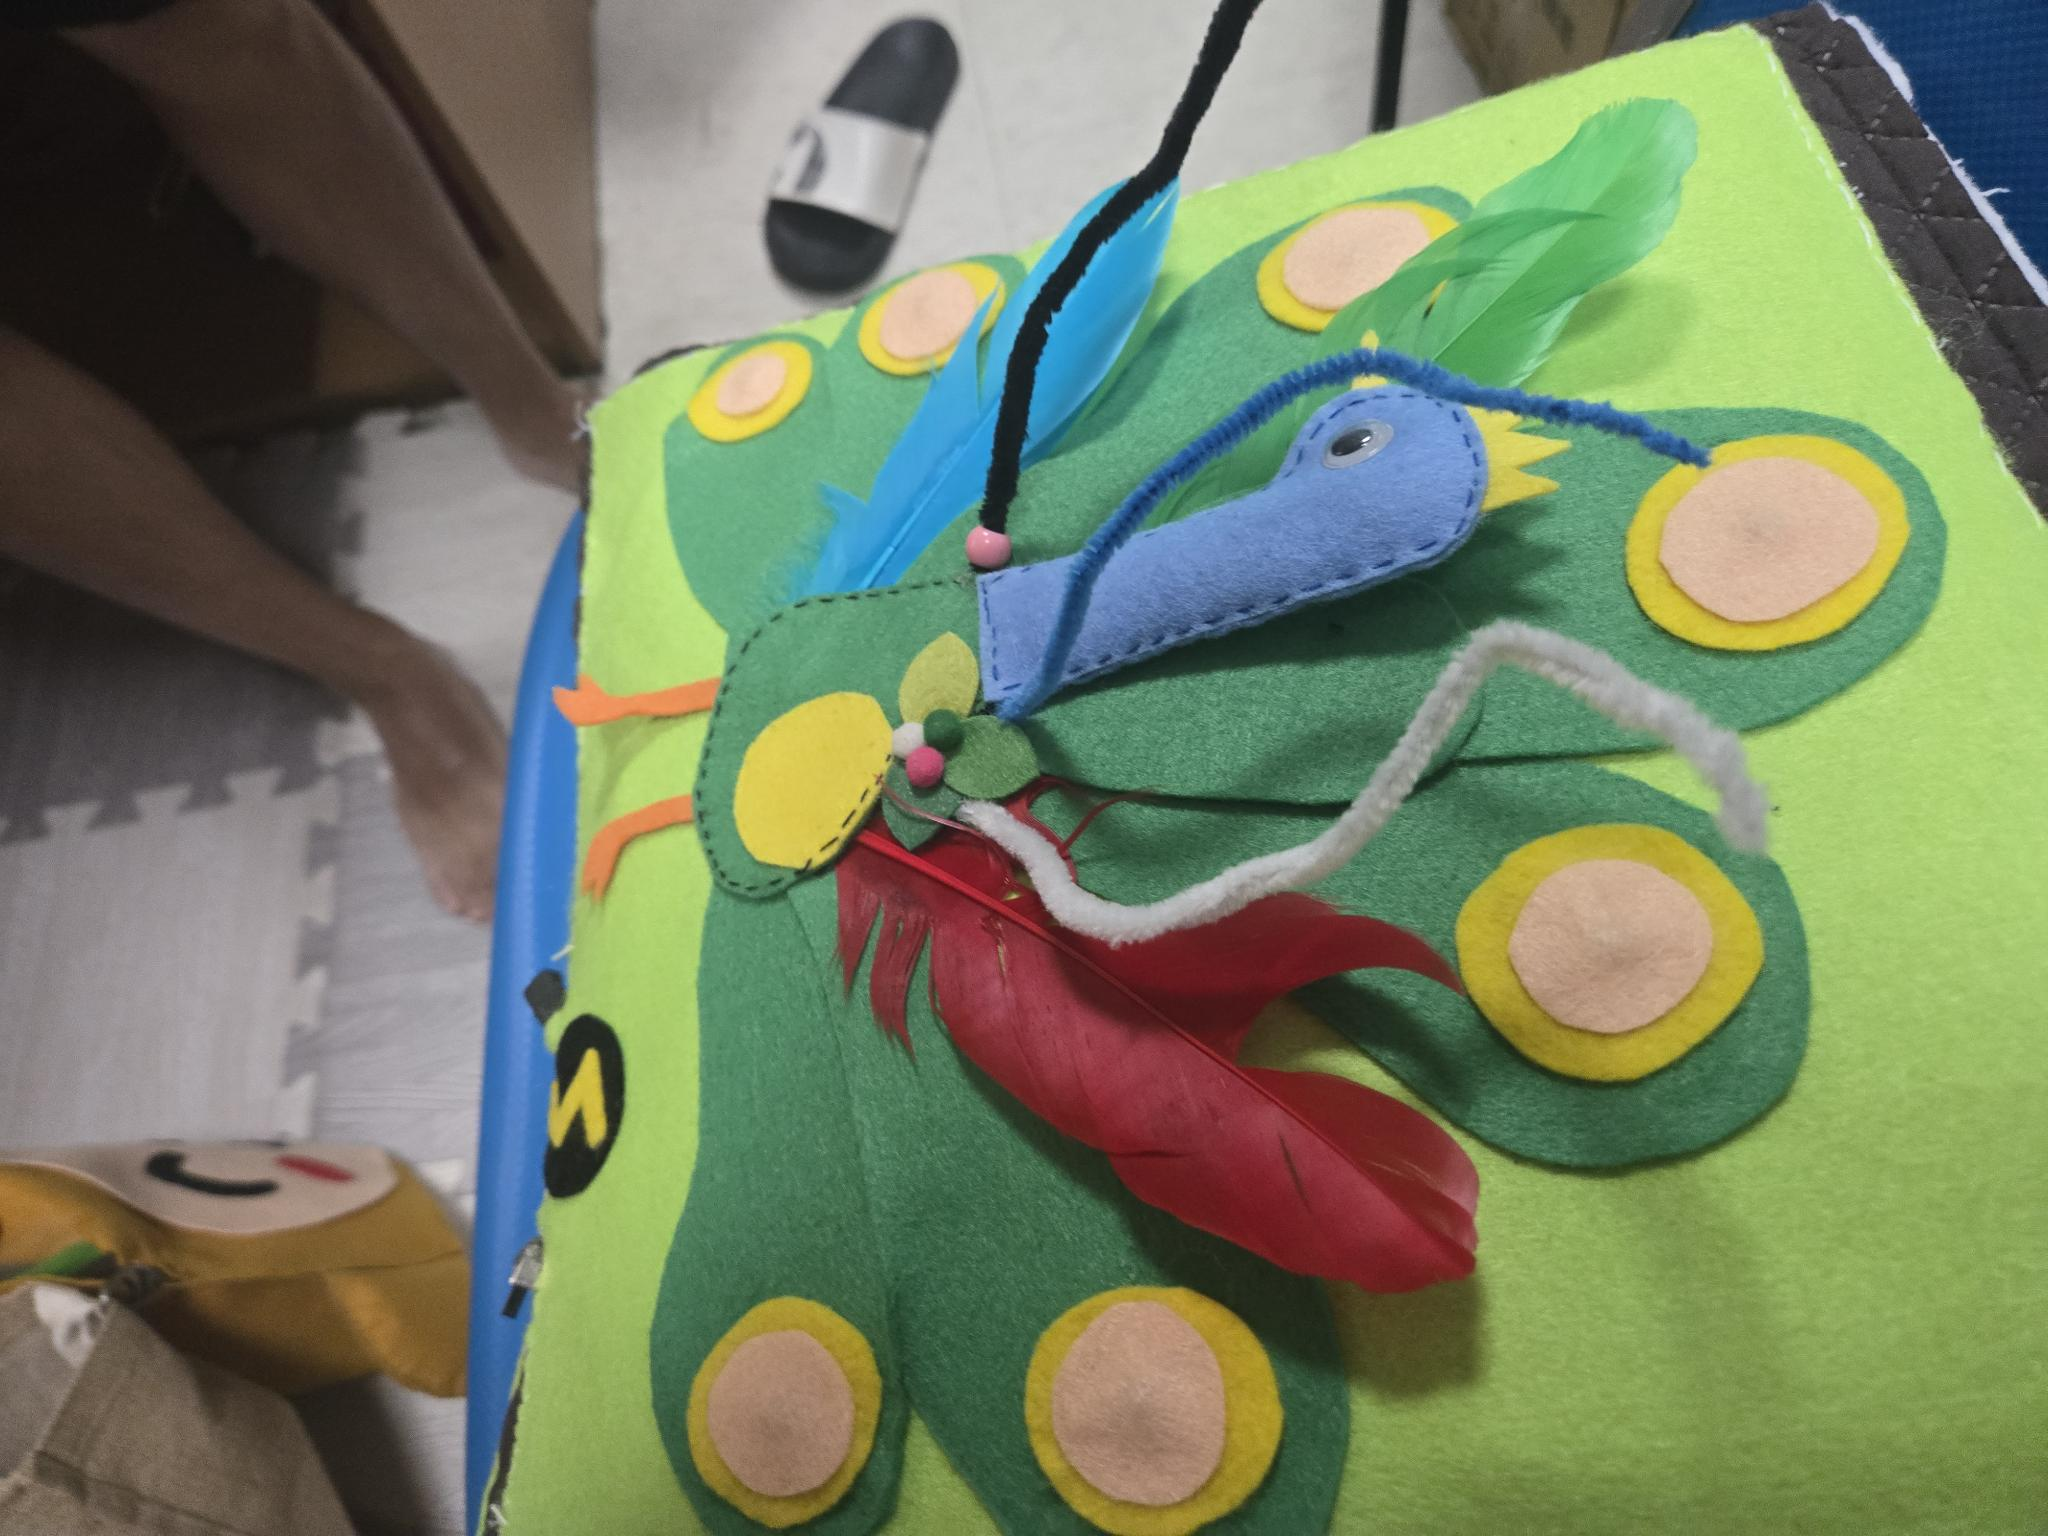bead: (953, 516, 1027, 581)
